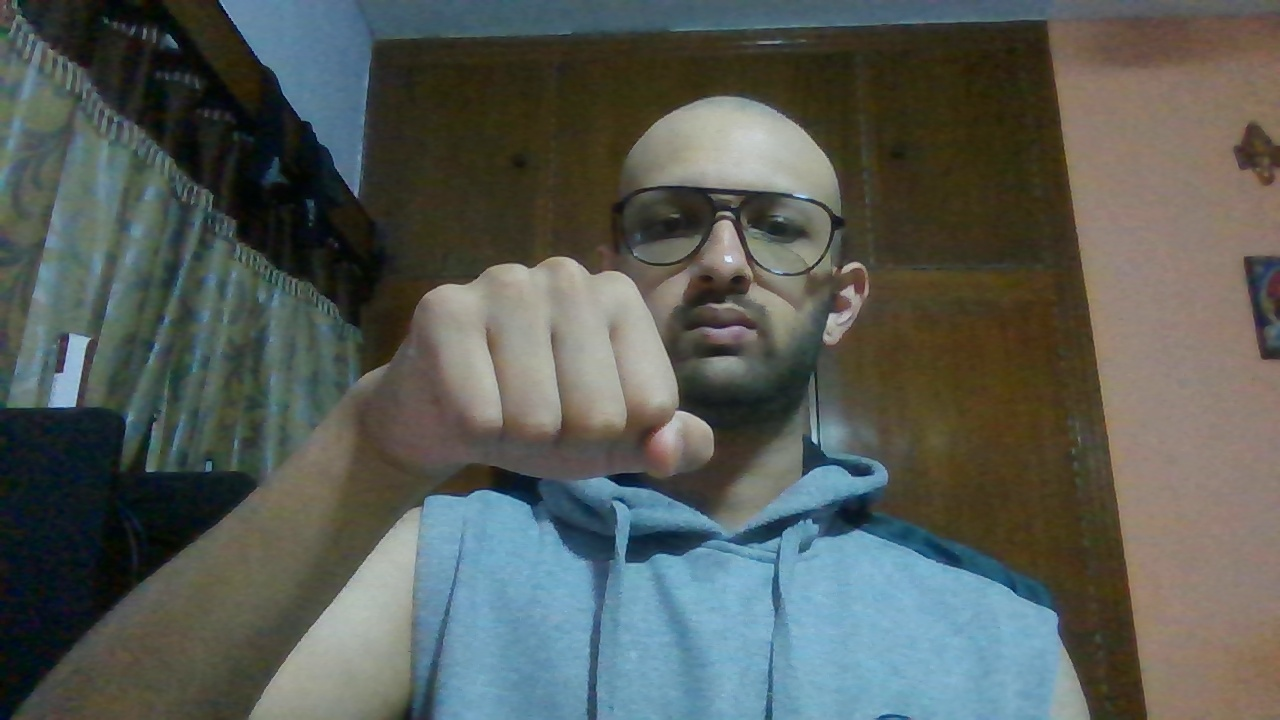Yes: (408, 248, 720, 496)
